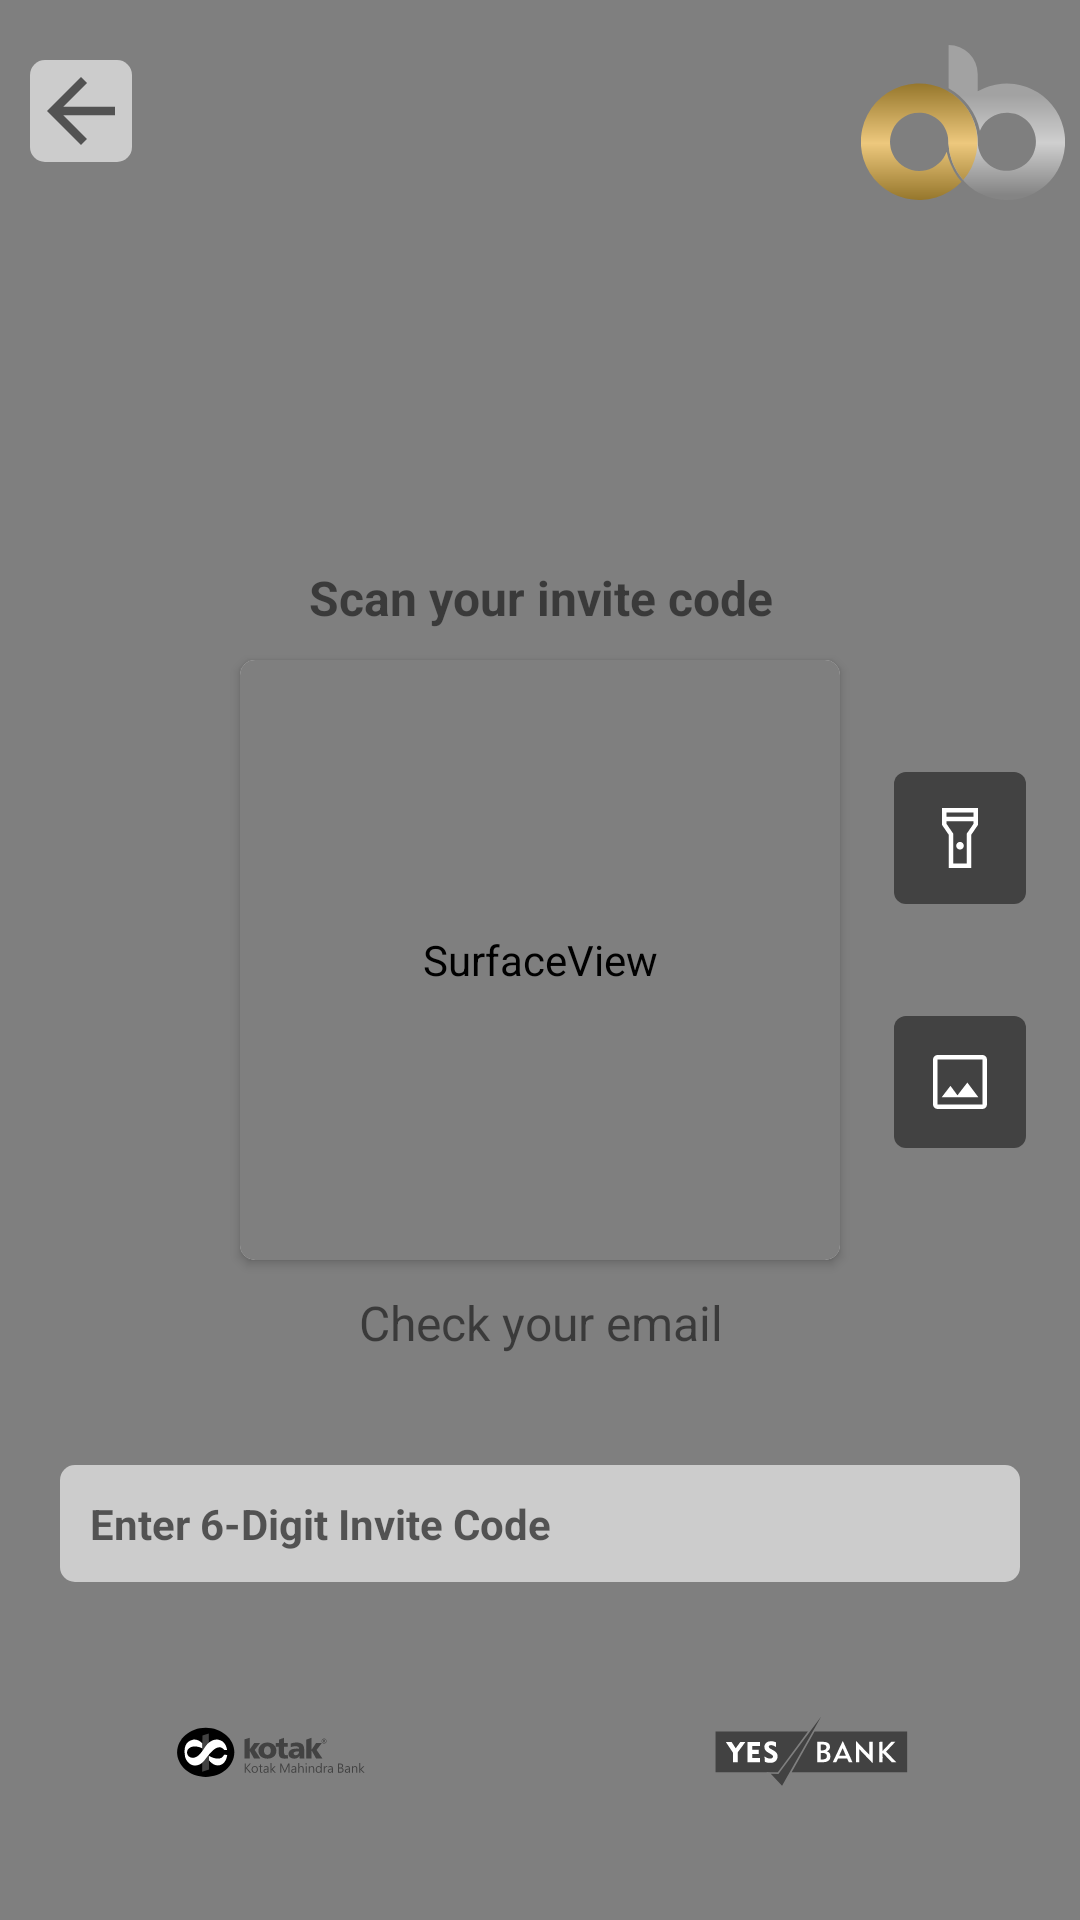

Icons on this 1080px x 1920px Android screen, each with the point to tap as (x,y):
back: (81,111)
flashlight on: (960,838)
